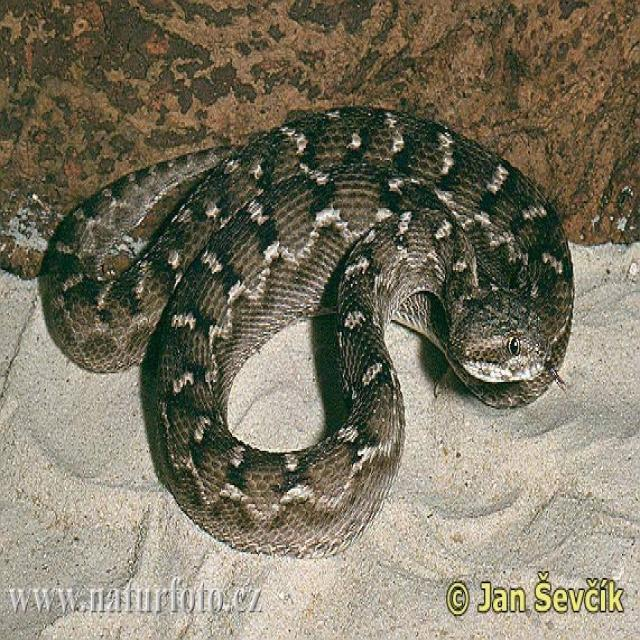Snake: (37, 101, 574, 560)
